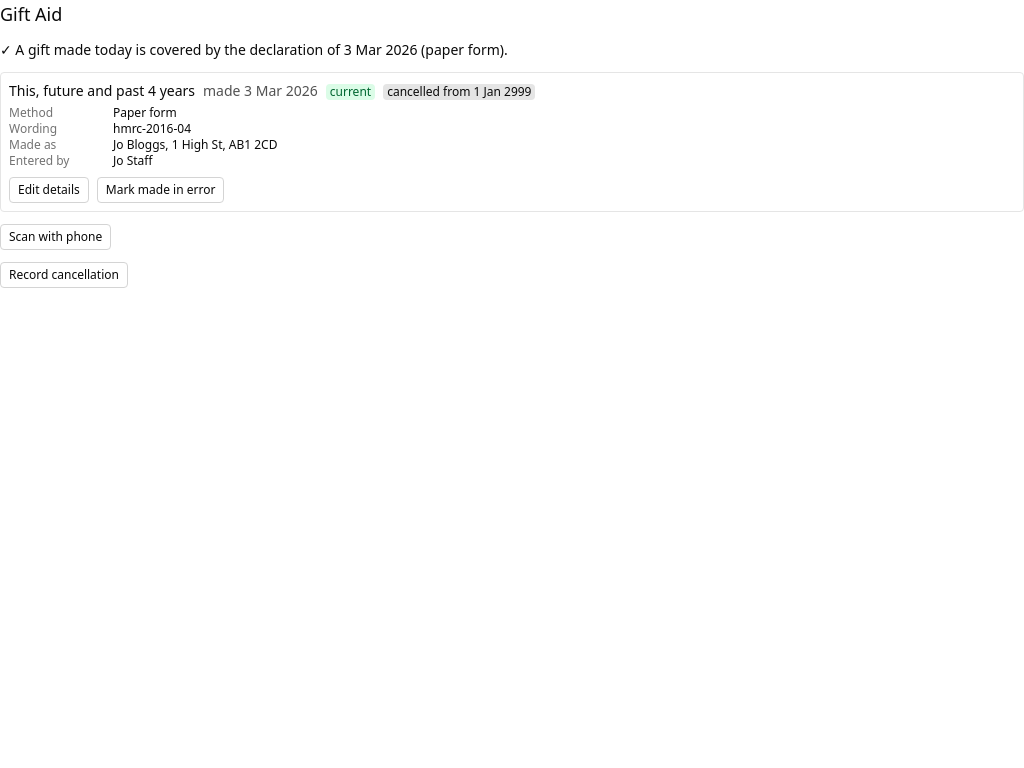
Test: a cancellation from a later date can still be moved earlier
Step 1. Click the button "Record cancellation" → point(64, 275), box [0,262,128,288]
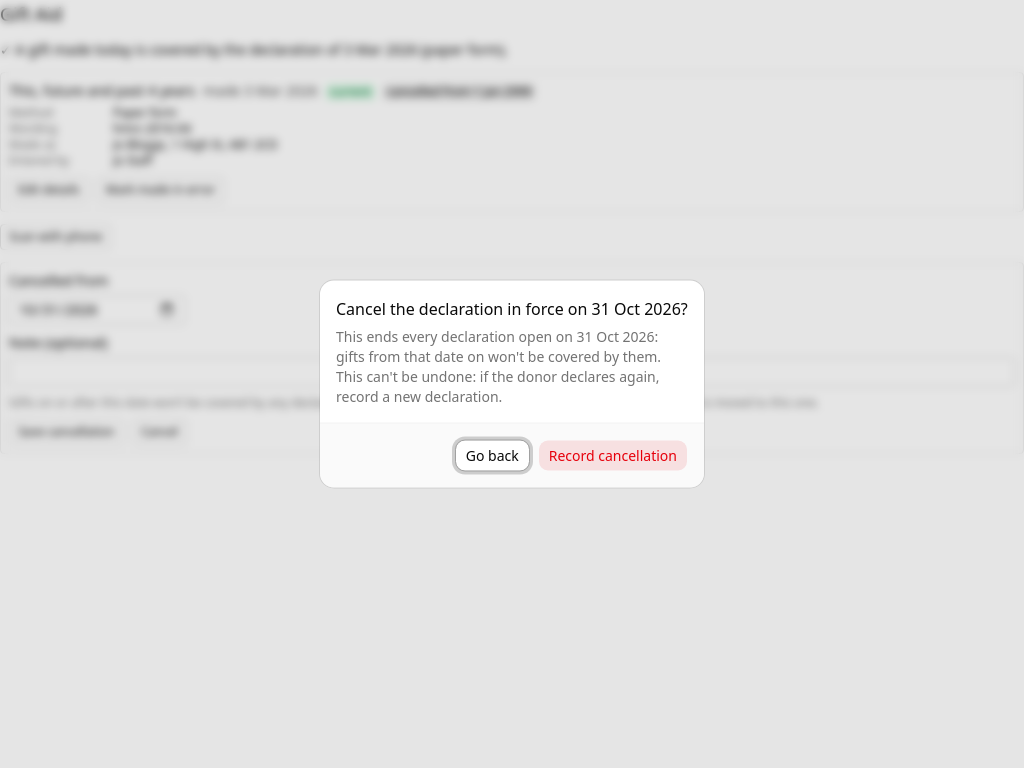
Result: the form named "Record cancellation" shows "A cancellation already recorded for a later date is moved to this one." at [432,394,819,411]
Result: the dialog shows "Cancel the declaration in force on" at [336,298,688,320]
